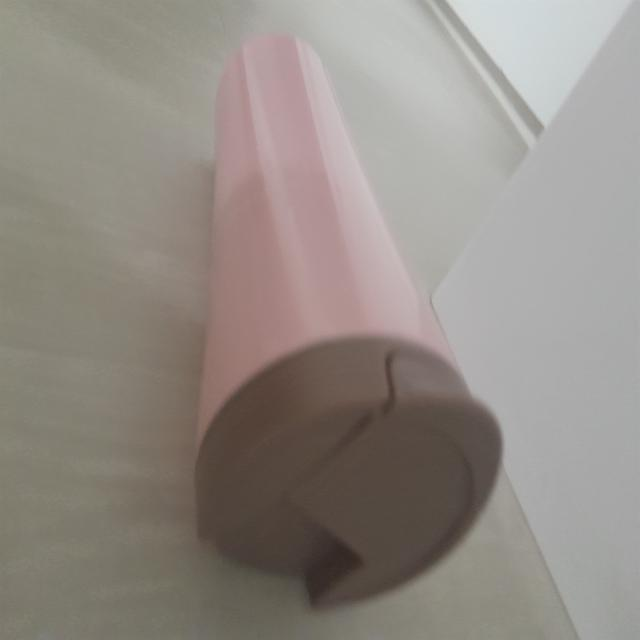waterbottle: (195, 39, 504, 610)
